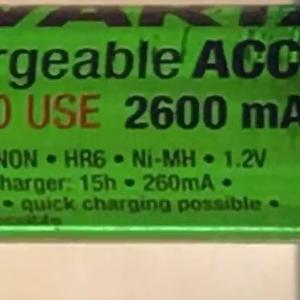NI-MH: (122, 138, 206, 178)
